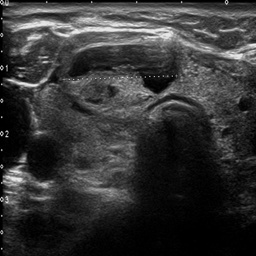mass: (62, 32, 183, 107)
